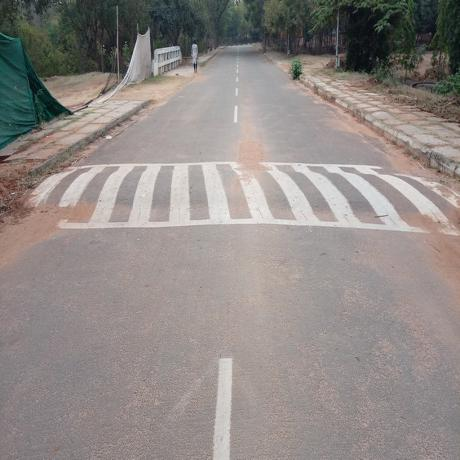Speed Bump: (17, 162, 459, 228)
